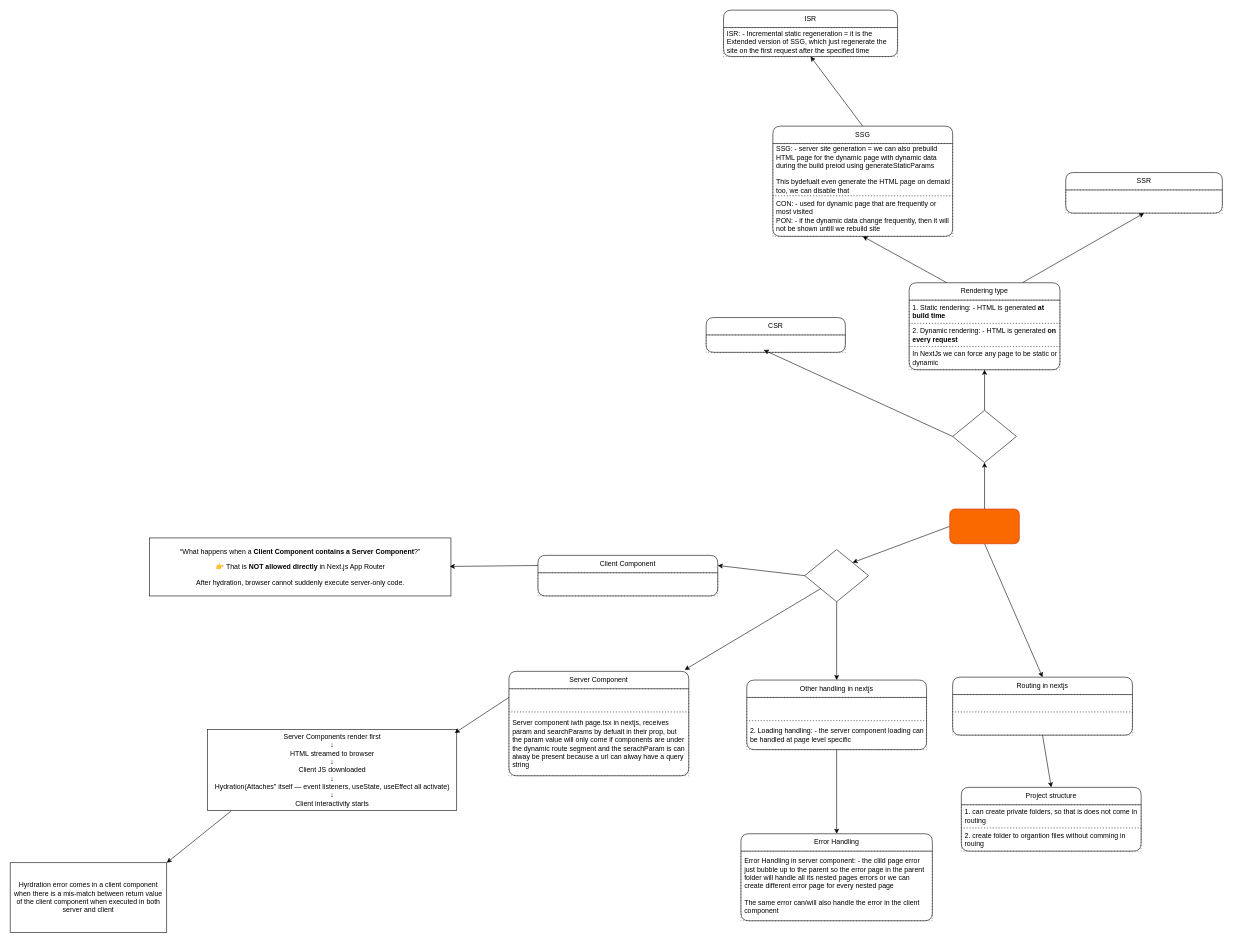
Image size: 1233x943. Some labels were removed from this diagram. Here are the shapes that lost their labels. From the top down, the centre of each, then its label:
the point at 1143,201: Server side rendering: - it basically dynamic rendering
the point at 984,436: Rendering Paradigm
the point at 984,526: Next Js
the point at 627,584: Executes on both client and server
the point at 836,575: Components
the point at 598,700: executes only on server
the point at 836,709: 1. Page not found can be handled at both global and page specific level
the point at 1042,703: File structure based routing
